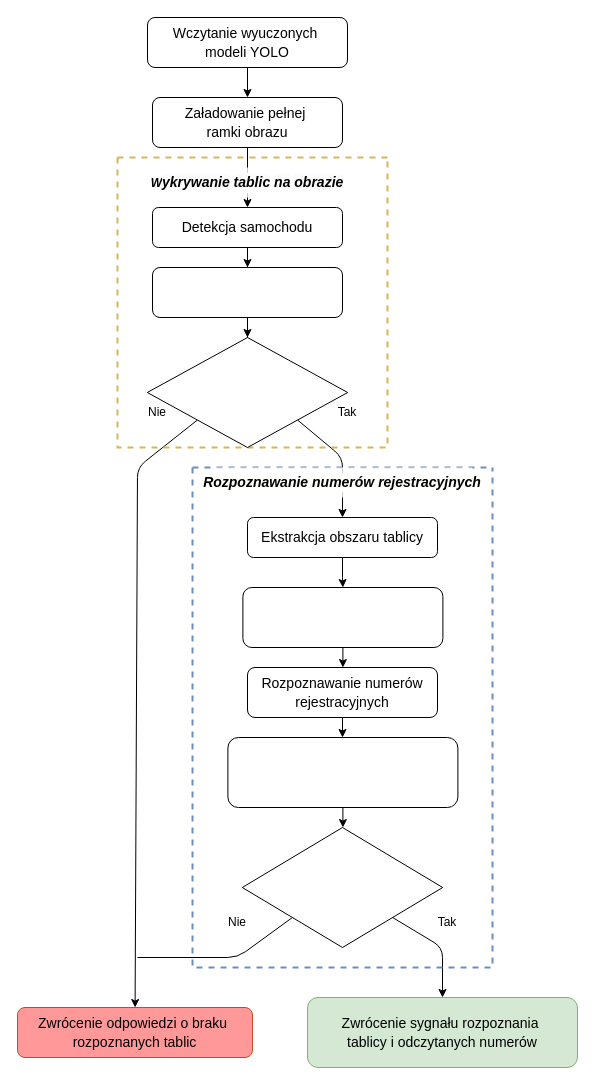
Image size: 595x1085. Some labels were removed from this diagram. The box of each missing label's shape, as (x1, y1, x2, y2) in pixels:
Czy tablica znajduje się w obszarze samochodu?: (146, 336, 348, 448)
Detekcja tablicy rejestracyjnej: (152, 266, 342, 318)
Porównywanie odczytanych numerów z bazą samochodów mających możliwość wjazdu: (227, 736, 458, 808)
Rozpoznano tablicę rejestracyjną?: (241, 826, 443, 948)
Wstępne wyodrębnienie znaków i wyrównanie tablicy: (242, 586, 443, 648)
